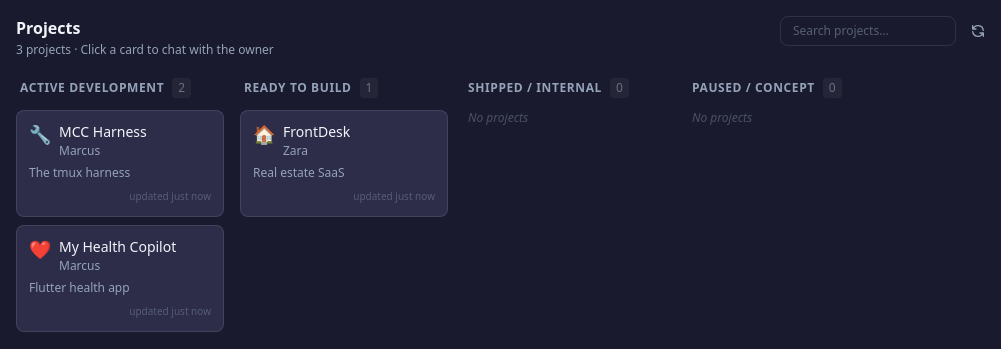
Test: ProjectsView › filters projects by owner name
Type "Zara" into the field with placeholder "Search projects..." at (868, 31), box [780,16,956,46]
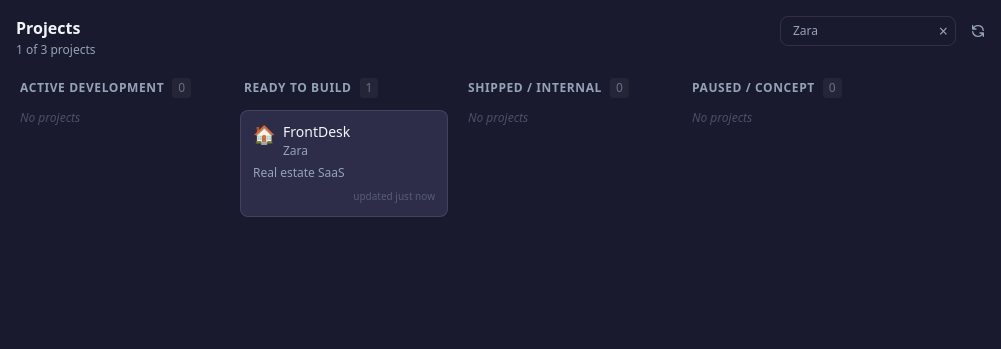
Expected: the text "FrontDesk" is shown, [283,122,350,141]
Now the button "MCC Harness" is gone
